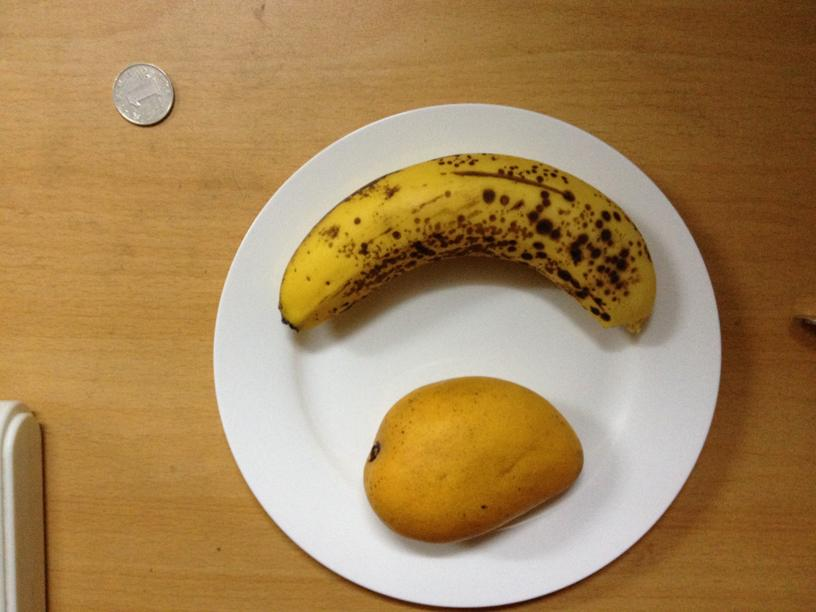banana: (267, 154, 659, 331)
coin: (111, 64, 176, 125)
mango: (358, 377, 584, 539)
